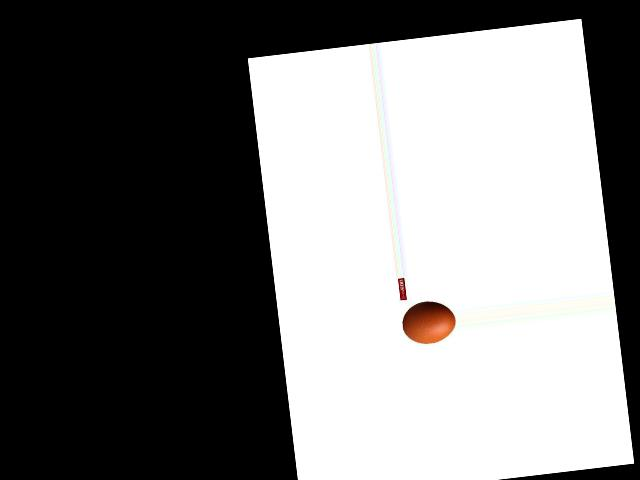egg: (400, 299, 456, 346)
